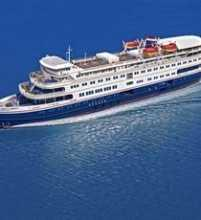youlun: (2, 28, 201, 127)
